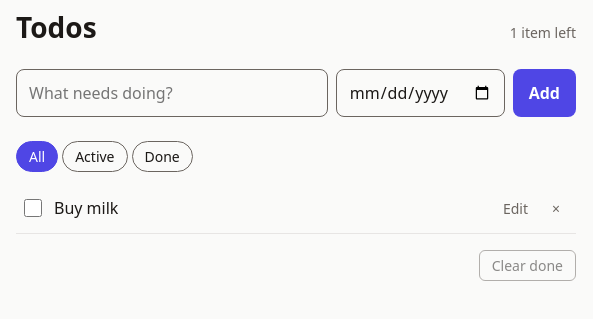
Test: App › editing › saves on Enter after clicking Edit
expect the text "Buy milk" is shown: met, box [54,196,118,220]
Click the button with aria-label "Edit Buy milk". click: (515, 208)
box: [495,196,536,221]
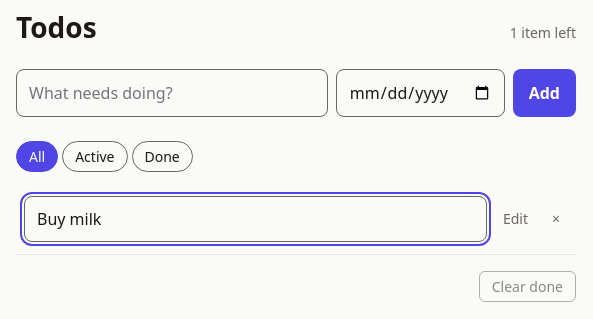
Replace the text in the field named "Edit title of Buy milk" with "Buy oat milk". click: (255, 219)
box: [24,196,487,242]
Then press Enter
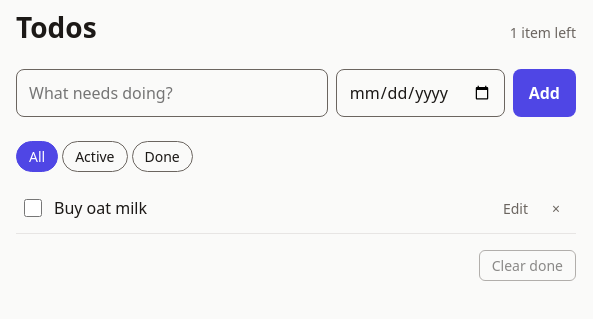
expect the text "Buy oat milk" is shown: met, box [54,196,147,220]
